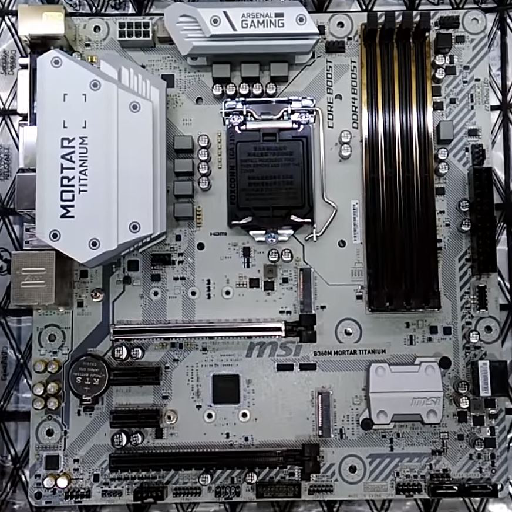CPU: (224, 97, 322, 240)
GPU: (108, 441, 322, 479), (111, 314, 322, 345)
MOTHERBOARD: (1, 3, 512, 506)
RAM: (357, 10, 447, 312)
SSD: (297, 268, 316, 317), (314, 391, 334, 437)
